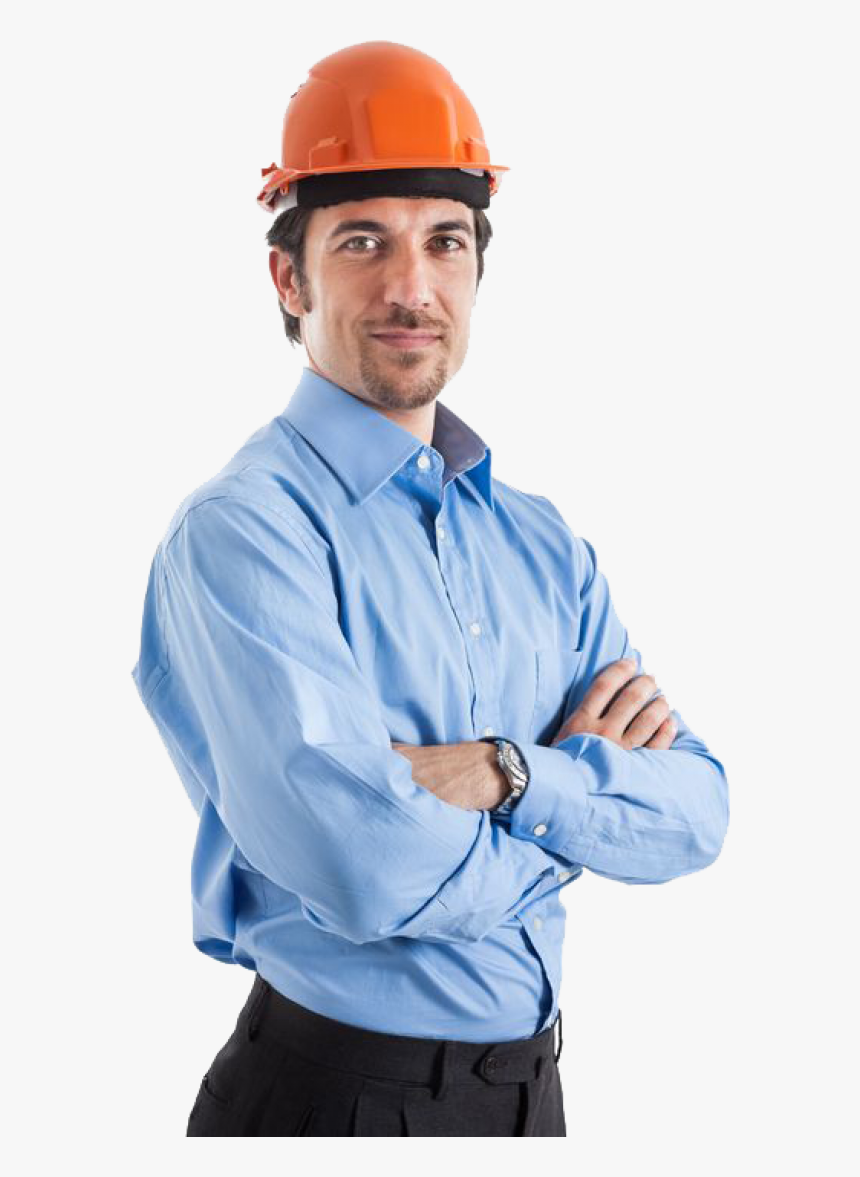Person_wearing_helmet: (237, 27, 528, 257)
